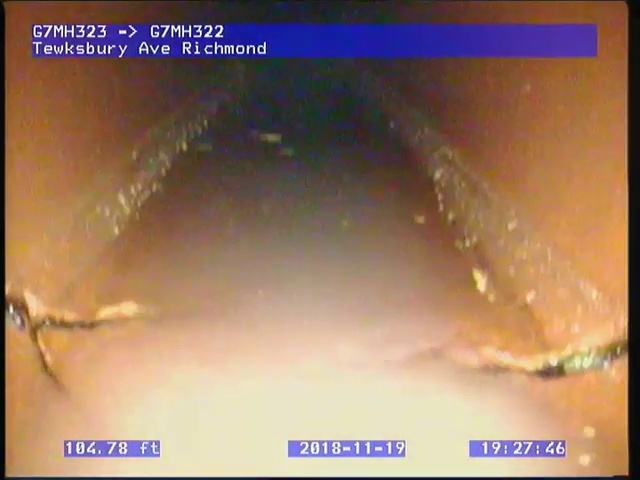crack: (5, 282, 144, 400), (482, 329, 626, 380)
